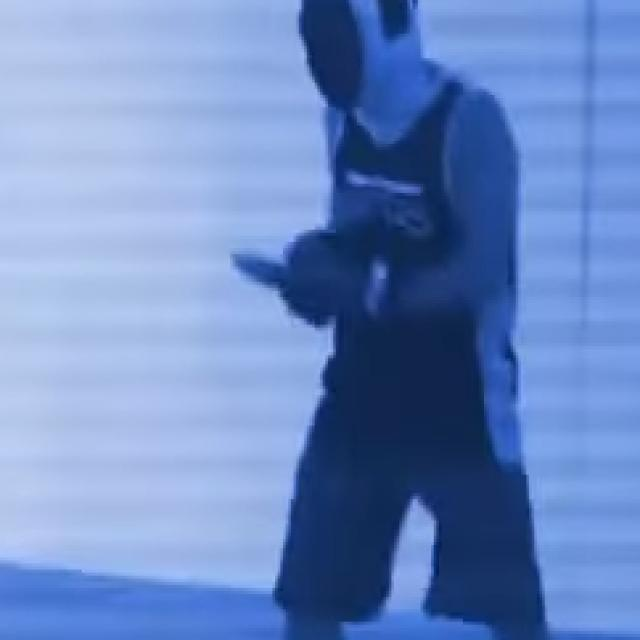Fknife: (218, 237, 303, 315)
